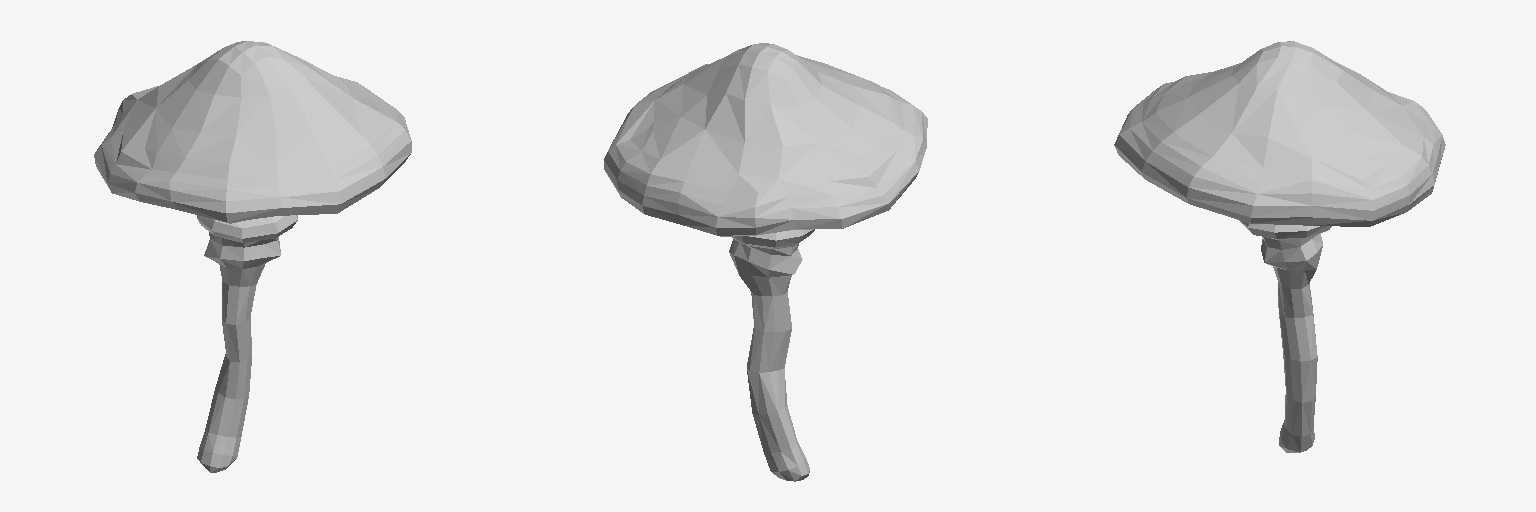
File: Mushroom_big1_low.obj
3 renders of one model, left to right at view 1: azimuth 30°, elevation 25°; view 2: azimuth 150°, elevation 25°; view 3: azimuth 270°, elevation 25°, orthographic.
Visible parts, largest first — view 1: ZBrush_defualt_group; view 2: ZBrush_defualt_group; view 3: ZBrush_defualt_group.
Boxes of the visible parts, x1,y1,x2,y2 form: ZBrush_defualt_group: [94, 41, 411, 472]; ZBrush_defualt_group: [604, 43, 927, 481]; ZBrush_defualt_group: [1114, 41, 1445, 452].
Bounding box in the file's own units: 0.8088 × 1.19 × 0.8522.